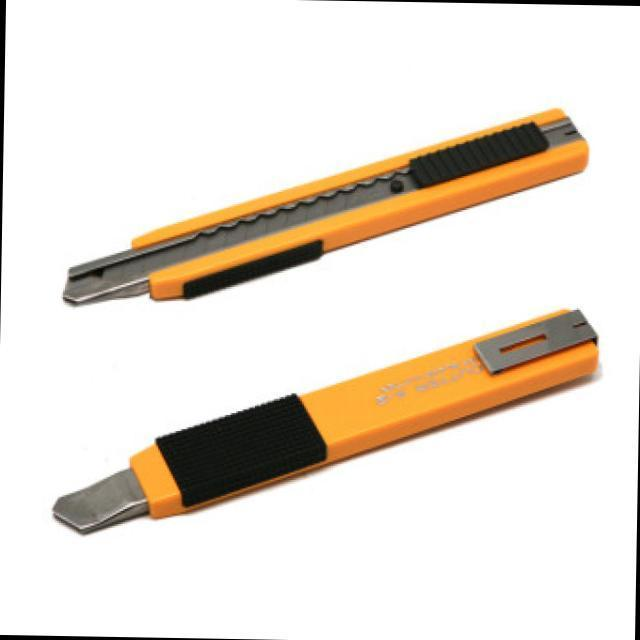cutter: (37, 280, 609, 560), (49, 75, 595, 336)
